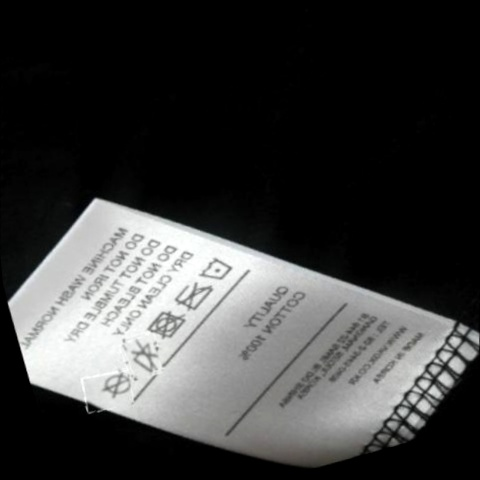30C: (199, 253, 232, 284)
DN_bleach: (121, 338, 160, 377)
DN_dry_clean: (99, 369, 135, 402)
DN_iron: (170, 279, 211, 315)
DN_tumble_dry: (143, 305, 186, 342)
